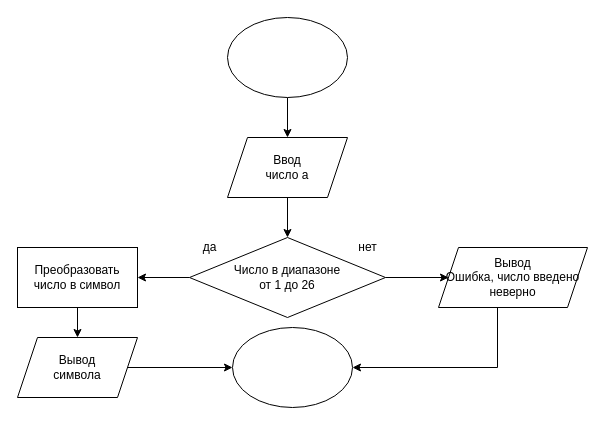
Some shapes in this 605 by 425 pixel diagram are drawn without their labels. Each missing label, with the centre of its shape:
"Конец" goes at (292,367).
"Начало" goes at (287,57).
